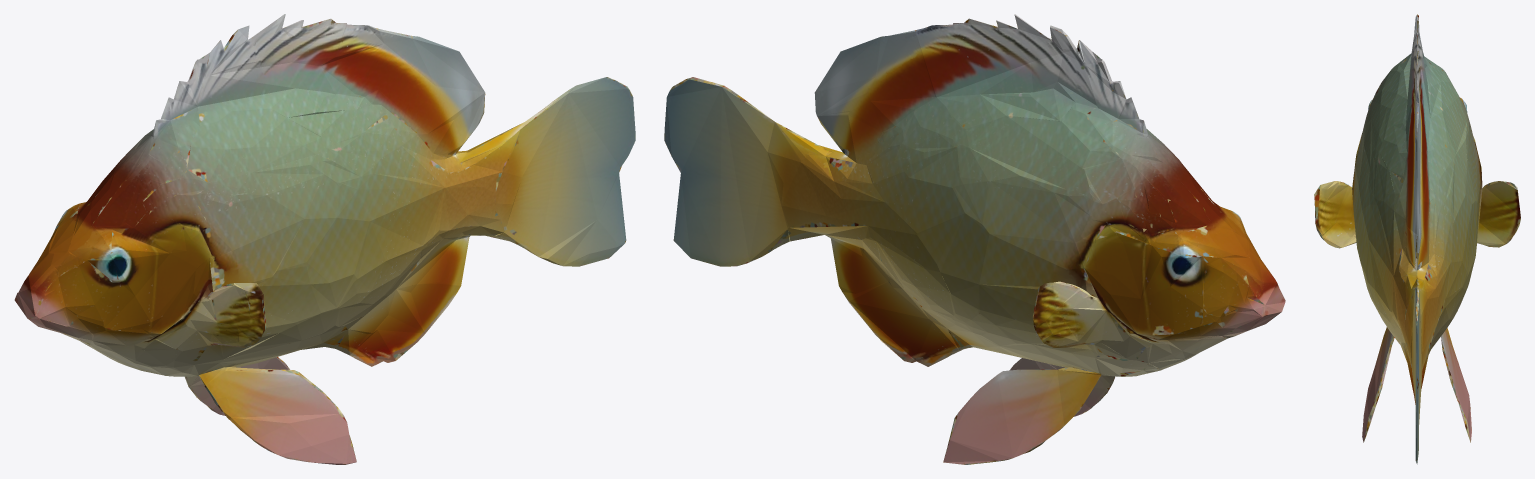
The model's file is fish_0112_smpl23_resized.glb.
3 renders of one model, left to right at view 1: azimuth 30°, elevation 25°; view 2: azimuth 150°, elevation 25°; view 3: azimuth 270°, elevation 25°, orthographic. The views are drawn at different scales.
Parts seen in each view (by area): view 1: world; view 2: world; view 3: world.
Boxes of the visible parts, x1,y1,x2,y2 form: world: (14, 14, 635, 464); world: (664, 14, 1285, 464); world: (1314, 14, 1520, 464).
Bounding box in the file's own units: 1.99 × 1.36 × 0.6492.
Materials: 1 (1 with a texture image).
